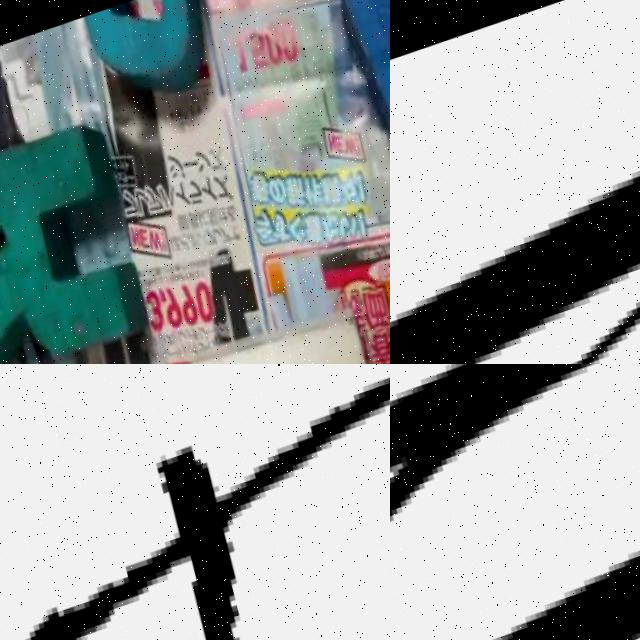B: (311, 0, 390, 189)
K: (0, 115, 167, 364)
N: (390, 364, 640, 640)
T: (0, 364, 390, 640)
V: (390, 34, 640, 364)
